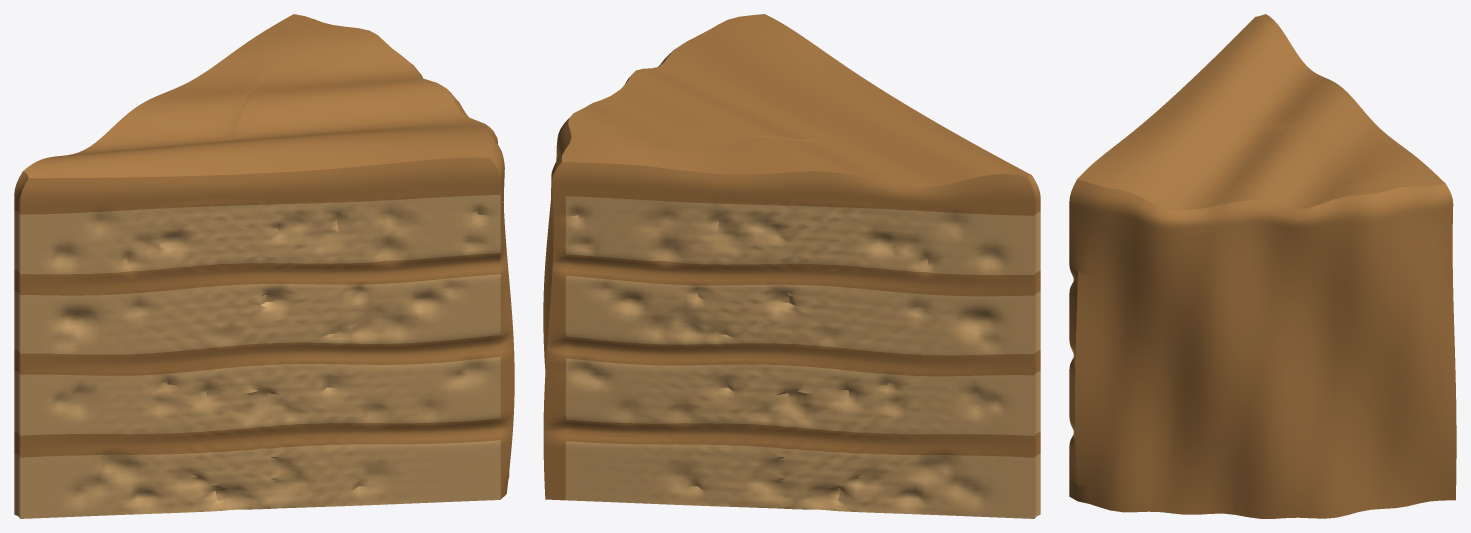
3 views of the same model, side by side, from view 1: azimuth 30°, elevation 25°; view 2: azimuth 150°, elevation 25°; view 3: azimuth 270°, elevation 25° (orthographic). The views are drawn at different scales.
Parts seen in each view (by area): view 1: Whole layer cake serving; view 2: Whole layer cake serving; view 3: Whole layer cake serving.
Part boxes in pixels (bbox=[...]): Whole layer cake serving: bbox=[14, 14, 514, 518]; Whole layer cake serving: bbox=[543, 14, 1040, 518]; Whole layer cake serving: bbox=[1069, 14, 1456, 518].
Bounding box in the file's own units: 0.1059 × 0.0802 × 0.0886.
